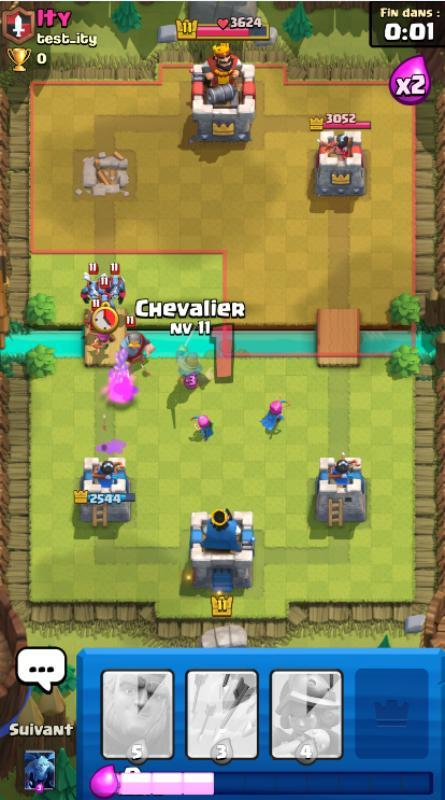archere: (259, 393, 292, 433), (188, 414, 214, 443), (82, 298, 100, 330), (90, 330, 111, 357)
chevalier: (173, 315, 215, 388), (118, 318, 156, 370)
gargouille: (101, 263, 127, 305), (80, 262, 104, 306), (92, 278, 116, 311)
